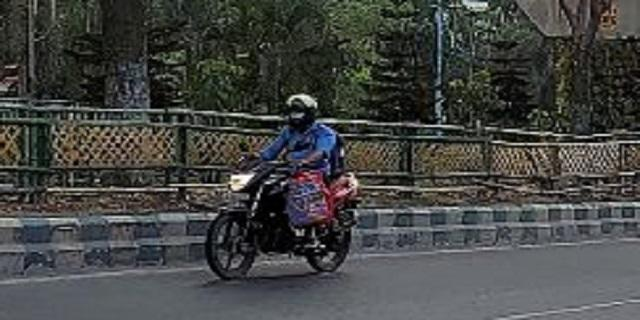Motorbike: (195, 94, 357, 278)
